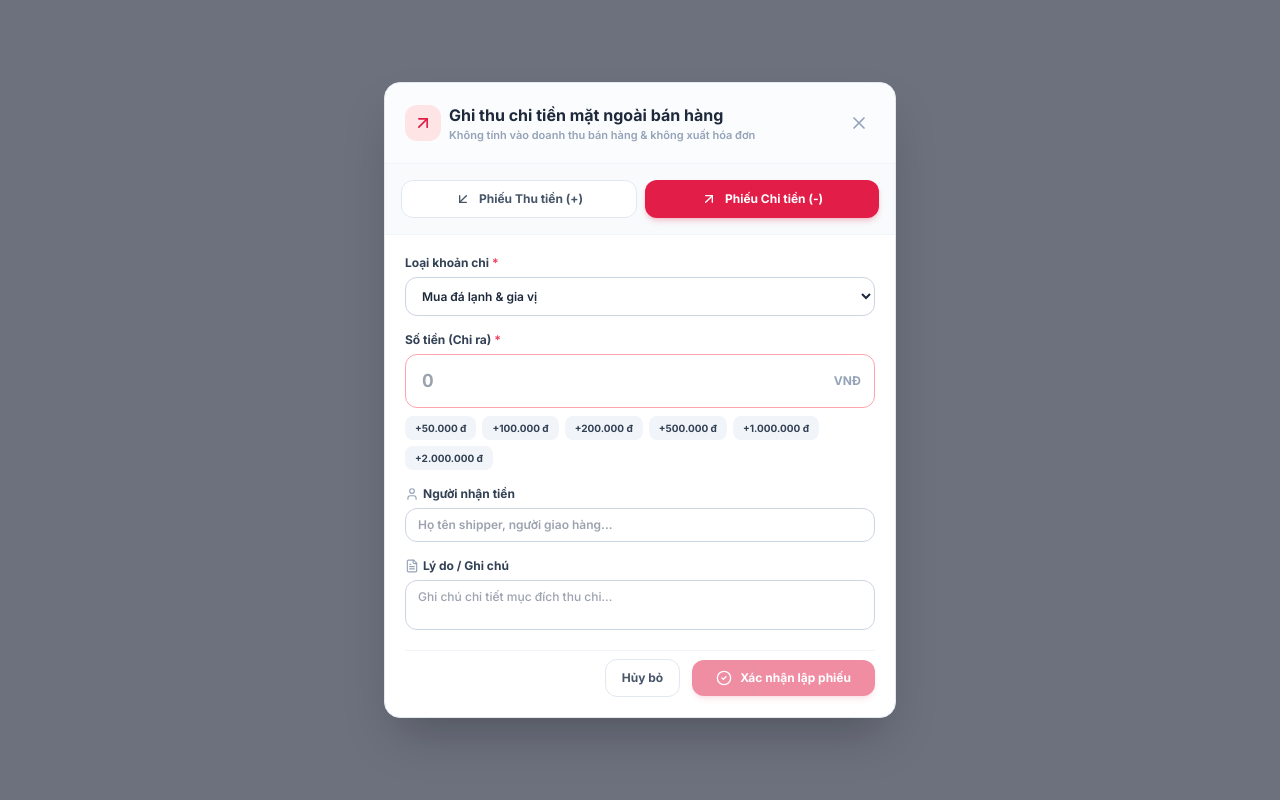
it: NCL-03-CN-014: Ghi thu chi tiền mặt ngoài bán hàng trong ca › TC-01: Ghi nhận phiếu chi tiền mặt hợp lệ (<= 500k) và phiếu thu tiền mặt › cho phép chuyển sang Tab Phiếu Thu và cập nhật nhãn người nộp tiền
Bấm chuyển sang tab Phiếu Thu
Click the button "Phiếu Thu tiền (+)".
click(519, 199)  # box x1=401 y1=180 x2=637 y2=218
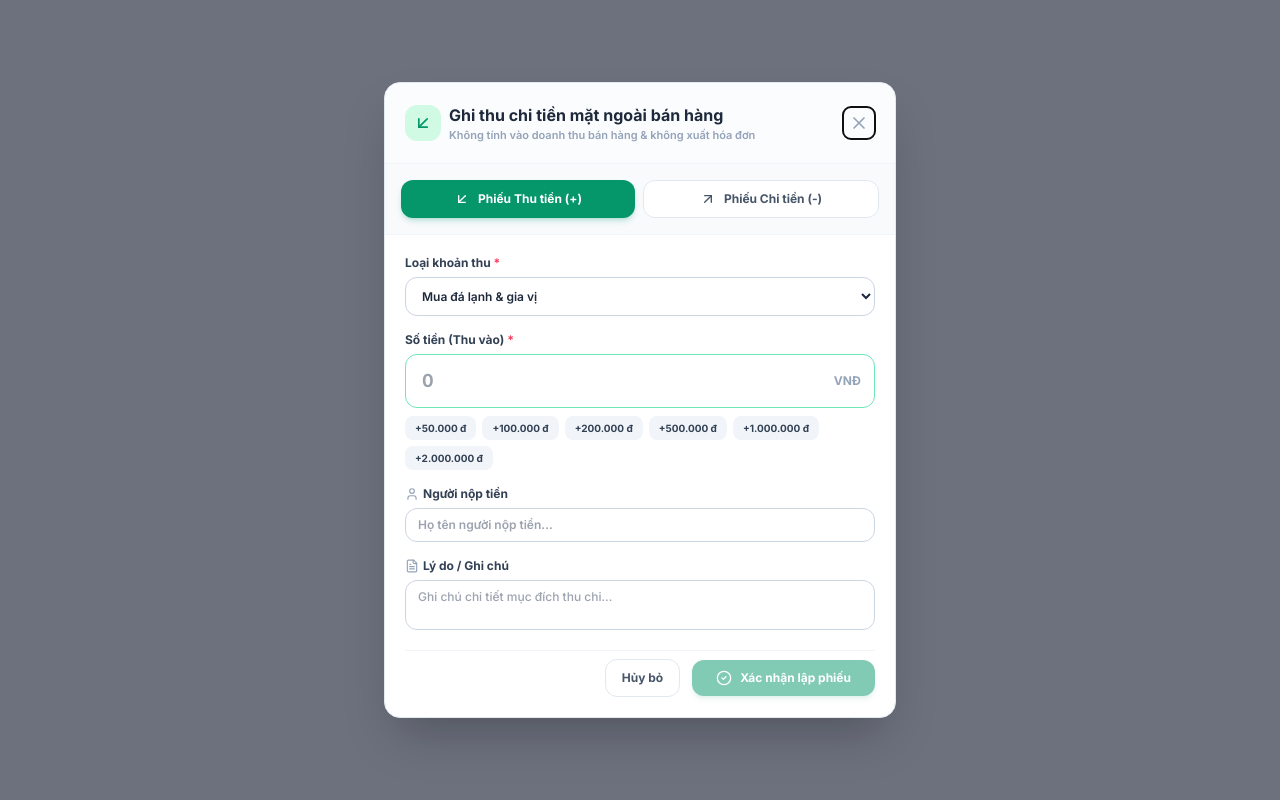
Result: the text "Người nộp tiền" is shown at x1=423 y1=486 x2=508 y2=502
